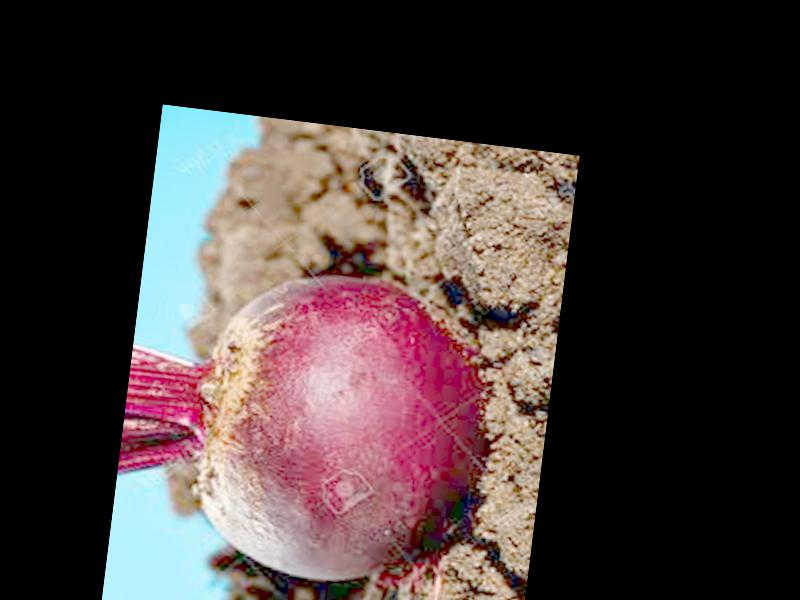Beet: (109, 252, 500, 599)
